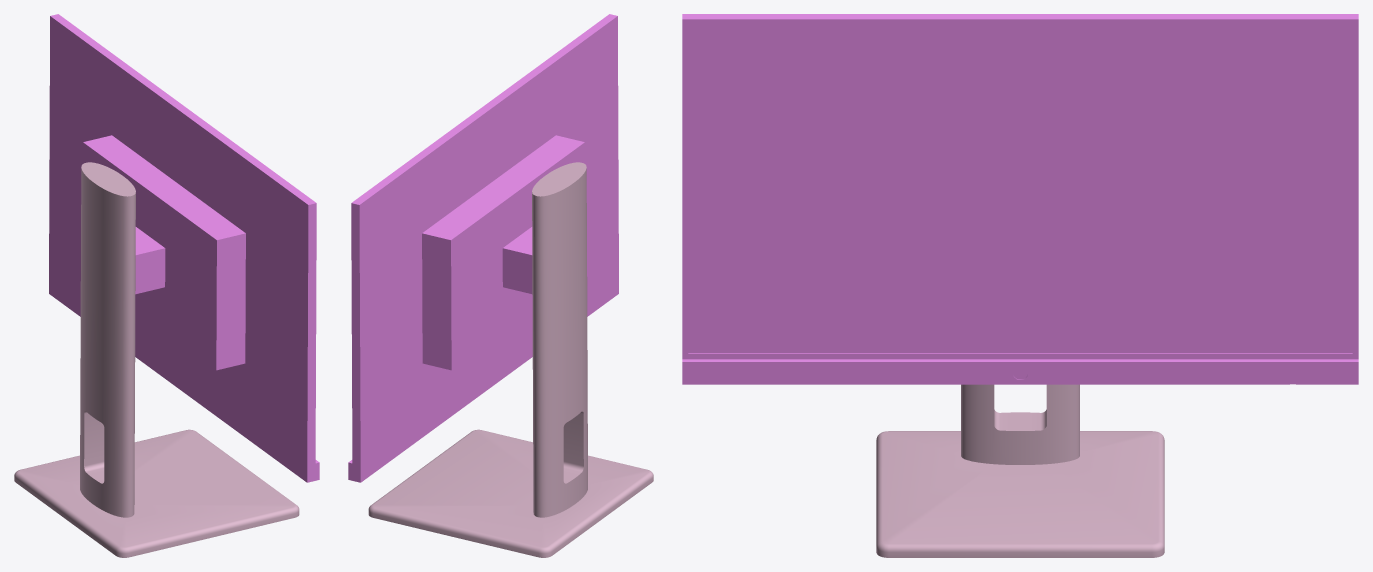
3 renders of one model, left to right at view 1: azimuth 30°, elevation 25°; view 2: azimuth 150°, elevation 25°; view 3: azimuth 270°, elevation 25°, orthographic. The views are drawn at different scales.
Visible parts, largest first — view 1: split_parent_0, split_parent_1; view 2: split_parent_0, split_parent_1; view 3: split_parent_0, split_parent_1.
Boxes of the visible parts, bbox=[...] form: split_parent_0: bbox=[49, 14, 319, 482]; split_parent_1: bbox=[14, 162, 299, 557]; split_parent_0: bbox=[348, 14, 618, 482]; split_parent_1: bbox=[368, 162, 653, 557]; split_parent_0: bbox=[682, 14, 1358, 384]; split_parent_1: bbox=[876, 384, 1164, 557].
Bounding box in the file's own units: 0.4074 × 0.8155 × 1.
